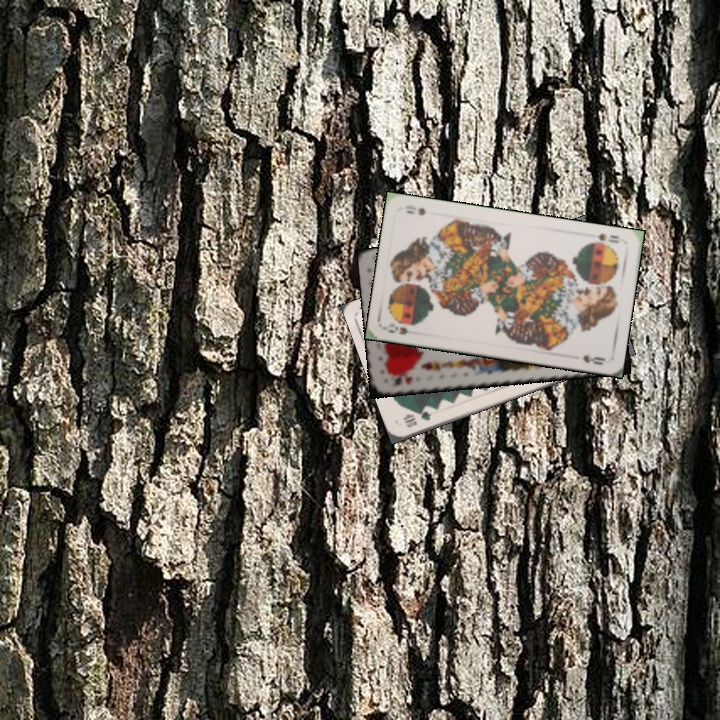G10: (399, 407, 433, 430)
HK: (388, 372, 415, 388)
SO: (382, 320, 411, 337), (594, 229, 622, 246)
